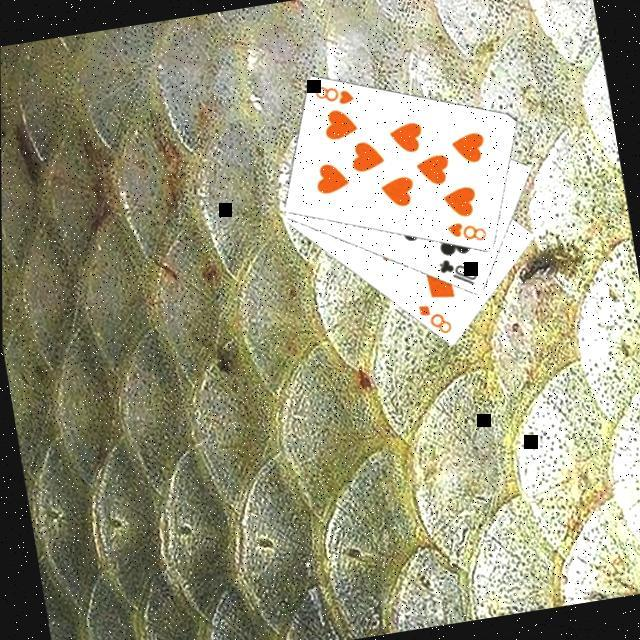10C: (434, 254, 482, 294)
8D: (413, 299, 455, 344)
8H: (442, 217, 490, 252), (310, 80, 358, 114)
